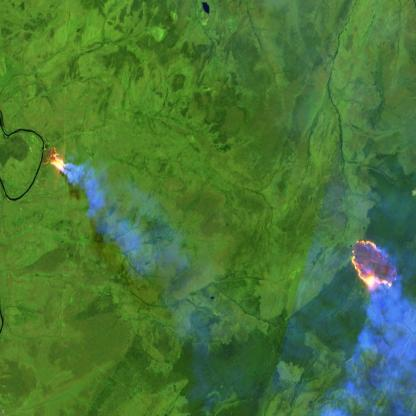fire: (344, 229, 405, 295), (32, 136, 72, 176)
